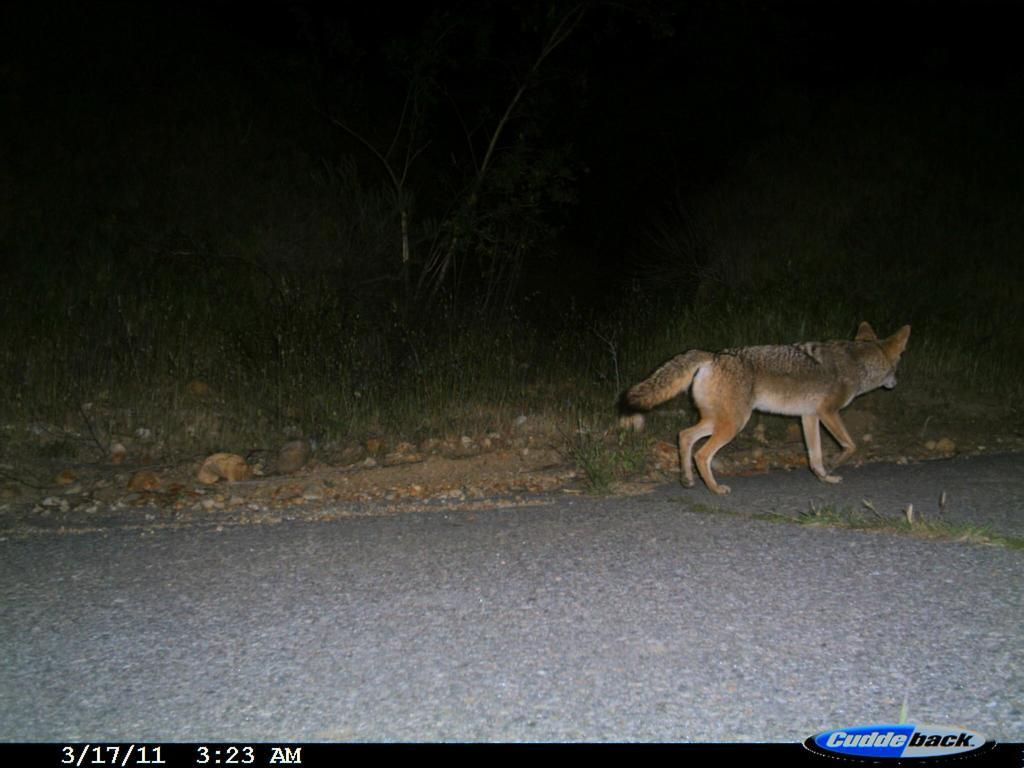coyote: (600, 294, 947, 516)
